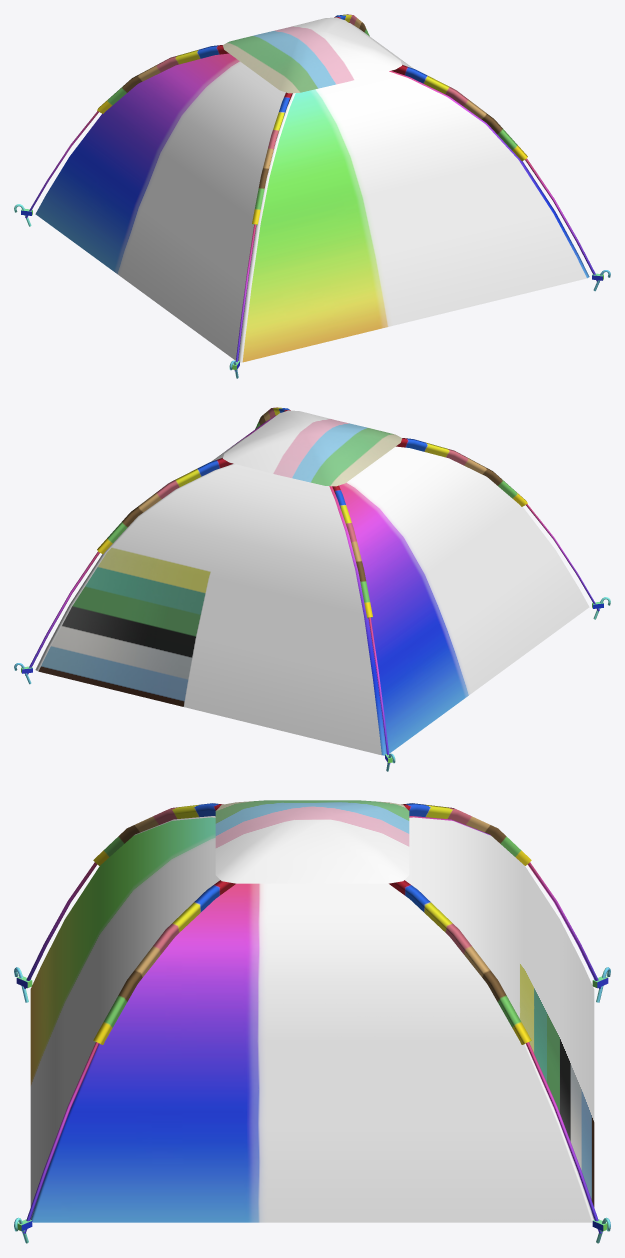
The model's file is Tent.fbx.
3 views of the same model, one above another, from view 1: azimuth 30°, elevation 25°; view 2: azimuth 150°, elevation 25°; view 3: azimuth 270°, elevation 25° (orthographic). The views are drawn at different scales.
Parts seen in each view (by area): view 1: Tent, Tent_Supports; view 2: Tent, Tent_Supports; view 3: Tent, Tent_Supports.
Part boxes in pixels (<box>): Tent: <box>35,17,589,362</box>; Tent_Supports: <box>14,14,610,378</box>; Tent: <box>35,410,589,755</box>; Tent_Supports: <box>14,407,610,771</box>; Tent: <box>30,800,594,1222</box>; Tent_Supports: <box>14,803,610,1243</box>.
Size of the model in its own units: 439 by 246 by 433.
